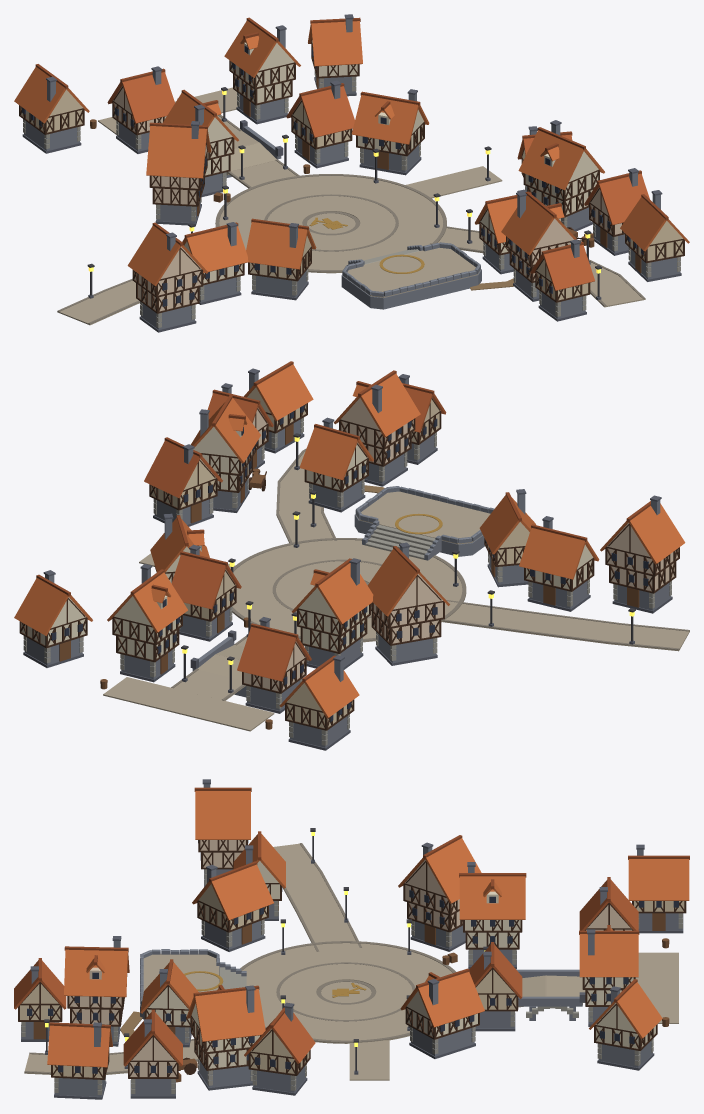
Rendered from LOBBY_VM_03_TOWN_2856ea.fbx.
3 views of the same model, one above another, from view 1: azimuth 30°, elevation 25°; view 2: azimuth 150°, elevation 25°; view 3: azimuth 270°, elevation 25° (orthographic). The views are drawn at different scales.
Parts seen in each view (by area): view 1: VM_Town_Plaza__Stone_Paving_VM, VM_Town_Streets__Stone_Paving_VM, VM_Town_Spawn__Stone_Paving_VM, VM_House_PNW__Roof_VM_Terracotta, VM_House_PNE__Roof_VM_Terracotta, VM_House_E1__Roof_VM_Terracotta, VM_House_PSW__Roof_VM_Terracotta, VM_House_N2E__Roof_VM_Terracotta, VM_House_S1E__Roof_VM_Terracotta_B, VM_House_N1W__Roof_VM_Terracotta_B, VM_House_R1__Roof_VM_Terracotta, VM_House_W1__Roof_VM_Terracotta (+51 smaller); view 2: VM_Town_Streets__Stone_Paving_VM, VM_Town_Plaza__Stone_Paving_VM, VM_Town_Spawn__Stone_Paving_VM, VM_House_R1__Roof_VM_Terracotta, VM_House_N1W__Roof_VM_Terracotta_B, VM_House_S1E__Roof_VM_Terracotta_B, VM_House_W0__Roof_VM_Terracotta, VM_House_W1__Roof_VM_Terracotta, VM_House_S1W__Roof_VM_Terracotta, VM_House_PNW__Plaster_VM_Peach, VM_House_R2__Roof_VM_Terracotta, VM_House_PNW__Roof_VM_Terracotta (+56 smaller); view 3: VM_Town_Plaza__Stone_Paving_VM, VM_Town_Streets__Stone_Paving_VM, VM_House_E1__Roof_VM_Terracotta, VM_House_W1__Roof_VM_Terracotta, VM_House_S1W__Roof_VM_Terracotta, VM_House_R2__Roof_VM_Terracotta, VM_House_N2W__Roof_VM_Terracotta, VM_House_N1E__Roof_VM_Terracotta, VM_House_E3__Roof_VM_Terracotta, VM_House_PNE__Roof_VM_Terracotta, VM_House_PSW__Roof_VM_Terracotta, VM_House_PNW__Roof_VM_Terracotta (+53 smaller).
Part boxes in pixels (bbox=[...]): VM_Town_Plaza__Stone_Paving_VM: bbox=[215, 176, 443, 273]; VM_Town_Streets__Stone_Paving_VM: bbox=[57, 87, 645, 325]; VM_Town_Spawn__Stone_Paving_VM: bbox=[343, 247, 480, 297]; VM_House_PNW__Roof_VM_Terracotta: bbox=[146, 126, 211, 178]; VM_House_PNE__Roof_VM_Terracotta: bbox=[351, 95, 429, 144]; VM_House_E1__Roof_VM_Terracotta: bbox=[518, 130, 604, 190]; VM_House_PSW__Roof_VM_Terracotta: bbox=[246, 222, 316, 269]; VM_House_N2E__Roof_VM_Terracotta: bbox=[308, 21, 362, 66]; VM_House_S1E__Roof_VM_Terracotta_B: bbox=[286, 86, 354, 137]; VM_House_N1W__Roof_VM_Terracotta_B: bbox=[107, 72, 174, 123]; VM_House_R1__Roof_VM_Terracotta: bbox=[182, 226, 248, 273]; VM_House_W1__Roof_VM_Terracotta: bbox=[501, 195, 576, 255]; VM_Town_Streets__Stone_Paving_VM: bbox=[103, 451, 689, 731]; VM_Town_Plaza__Stone_Paving_VM: bbox=[232, 540, 466, 642]; VM_Town_Spawn__Stone_Paving_VM: bbox=[356, 491, 490, 544]; VM_House_R1__Roof_VM_Terracotta: bbox=[519, 527, 599, 579]; VM_House_N1W__Roof_VM_Terracotta_B: bbox=[237, 626, 311, 681]; VM_House_S1E__Roof_VM_Terracotta_B: bbox=[171, 554, 241, 609]; VM_House_W0__Roof_VM_Terracotta: bbox=[299, 427, 373, 480]; VM_House_W1__Roof_VM_Terracotta: bbox=[333, 373, 420, 437]; VM_House_S1W__Roof_VM_Terracotta: bbox=[291, 563, 373, 624]; VM_House_PNW__Plaster_VM_Peach: bbox=[371, 574, 442, 643]; VM_House_R2__Roof_VM_Terracotta: bbox=[600, 503, 685, 564]; VM_House_PNW__Roof_VM_Terracotta: bbox=[367, 549, 449, 616]; VM_Town_Plaza__Stone_Paving_VM: bbox=[242, 943, 452, 1043]; VM_Town_Streets__Stone_Paving_VM: bbox=[24, 843, 678, 1080]; VM_House_E1__Roof_VM_Terracotta: bbox=[186, 988, 265, 1041]; VM_House_W1__Roof_VM_Terracotta: bbox=[64, 949, 129, 997]; VM_House_S1W__Roof_VM_Terracotta: bbox=[459, 876, 525, 919]; VM_House_R2__Roof_VM_Terracotta: bbox=[195, 791, 250, 839]; VM_House_N2W__Roof_VM_Terracotta: bbox=[628, 859, 689, 900]; VM_House_N1E__Roof_VM_Terracotta: bbox=[579, 928, 638, 977]; VM_House_E3__Roof_VM_Terracotta: bbox=[47, 1025, 112, 1067]; VM_House_PNE__Roof_VM_Terracotta: bbox=[400, 972, 484, 1027]; VM_House_PSW__Roof_VM_Terracotta: bbox=[192, 864, 273, 920]; VM_House_PNW__Roof_VM_Terracotta: bbox=[398, 838, 481, 903].
Size of the model in its own units: 185 by 38.06 by 203.
